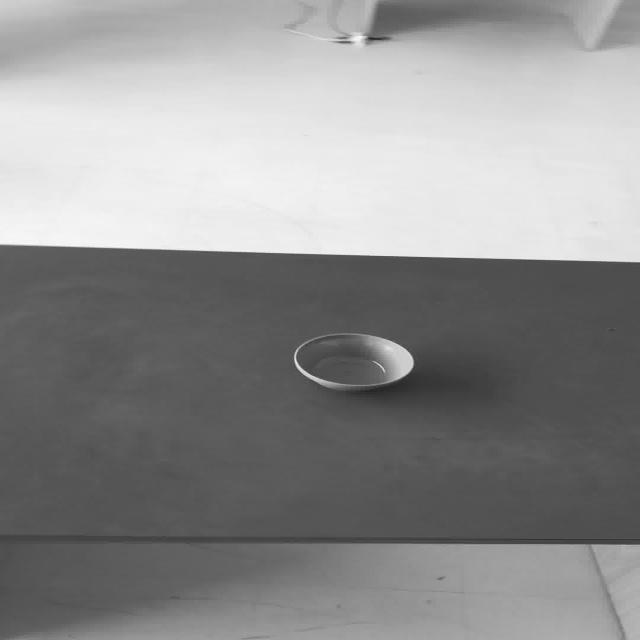bowl: (291, 332, 414, 391)
